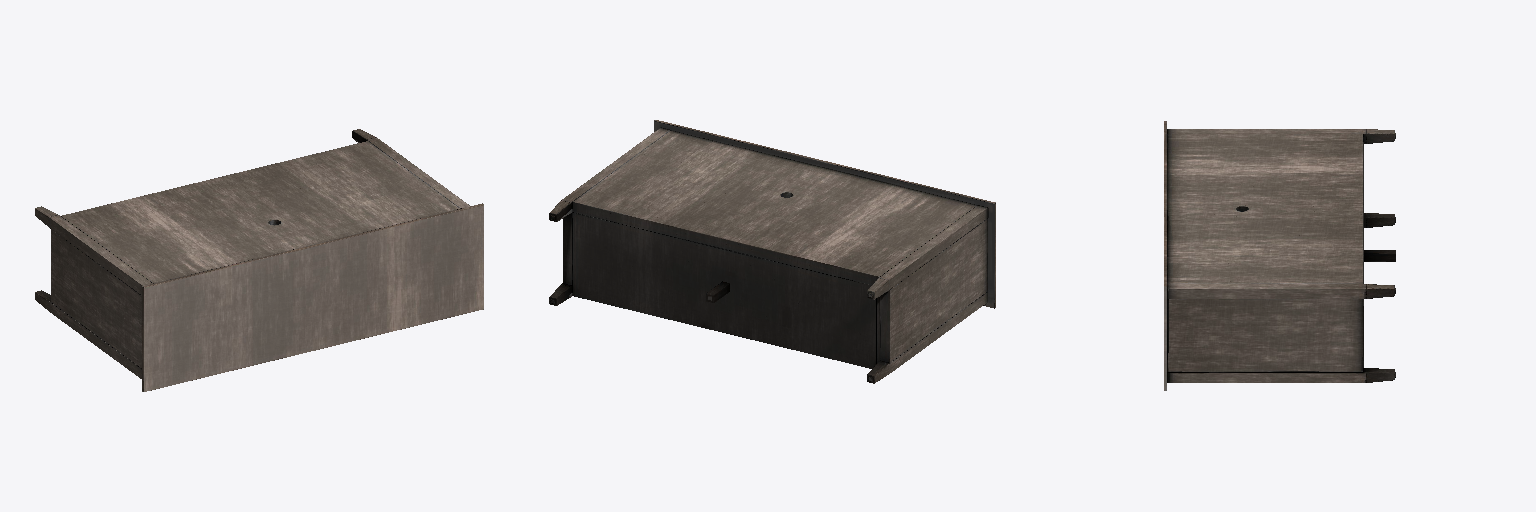
3 renders of one model, left to right at view 1: azimuth 30°, elevation 25°; view 2: azimuth 150°, elevation 25°; view 3: azimuth 270°, elevation 25°, orthographic.
Visible parts, largest first — view 1: polySurfac; view 2: polySurfac; view 3: polySurfac.
Boxes of the visible parts, x1,y1,x2,y2 form: polySurfac: [35, 129, 483, 391]; polySurfac: [549, 120, 995, 383]; polySurfac: [1164, 121, 1395, 390].
Size of the model in its own units: 60.33 by 17.74 by 35.61.
1 materials, 1 textured.